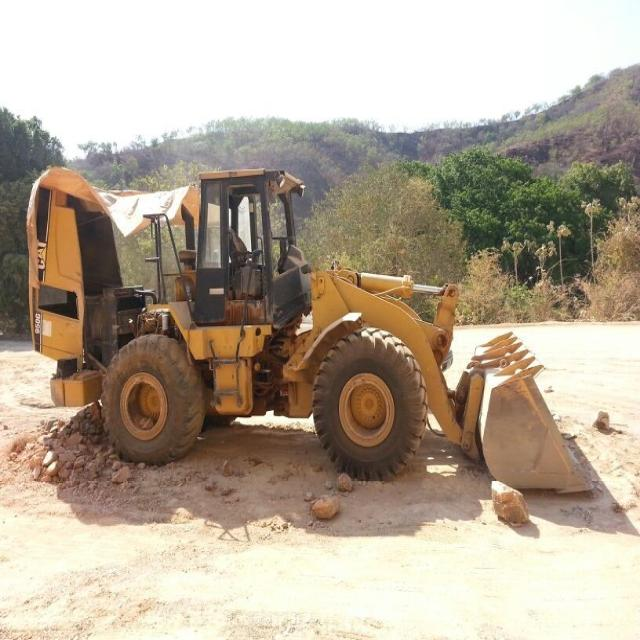buldozerpayloadergrader: (24, 142, 609, 518)
